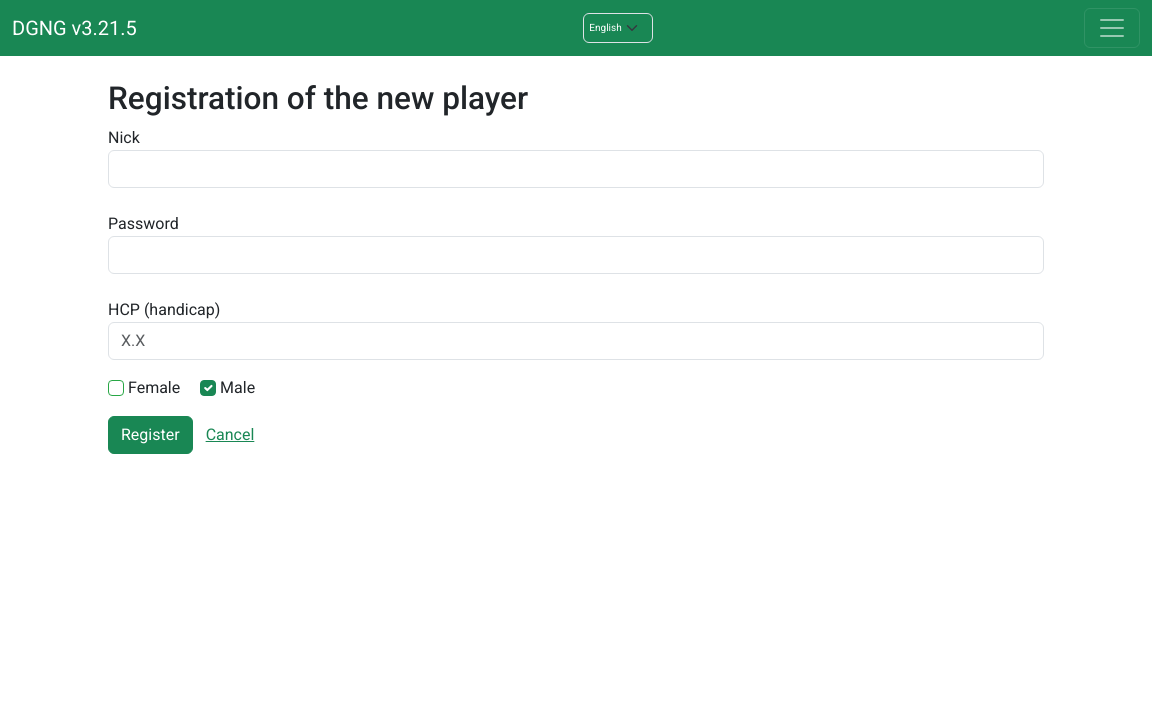
Test: Register Test › Form submission › tries to register without nick
Type "welcome" into the password field named "password" at (576, 255), box [108,236,1044,274]
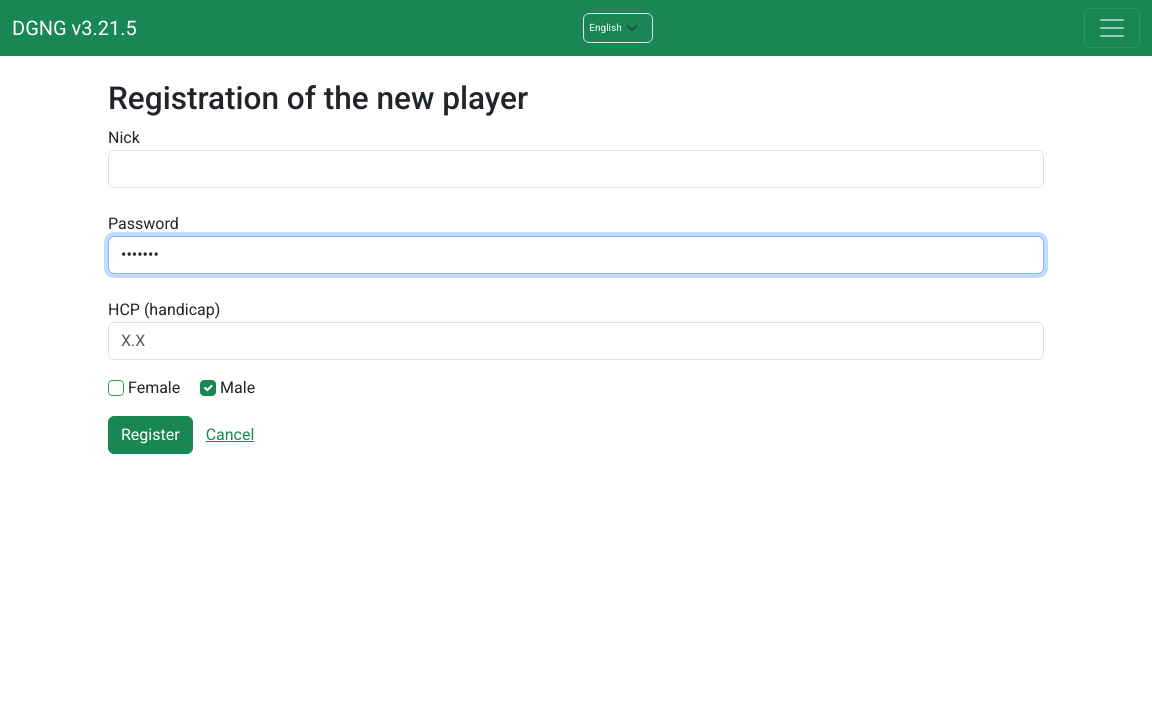
Submit the form, box [108,126,1044,454]
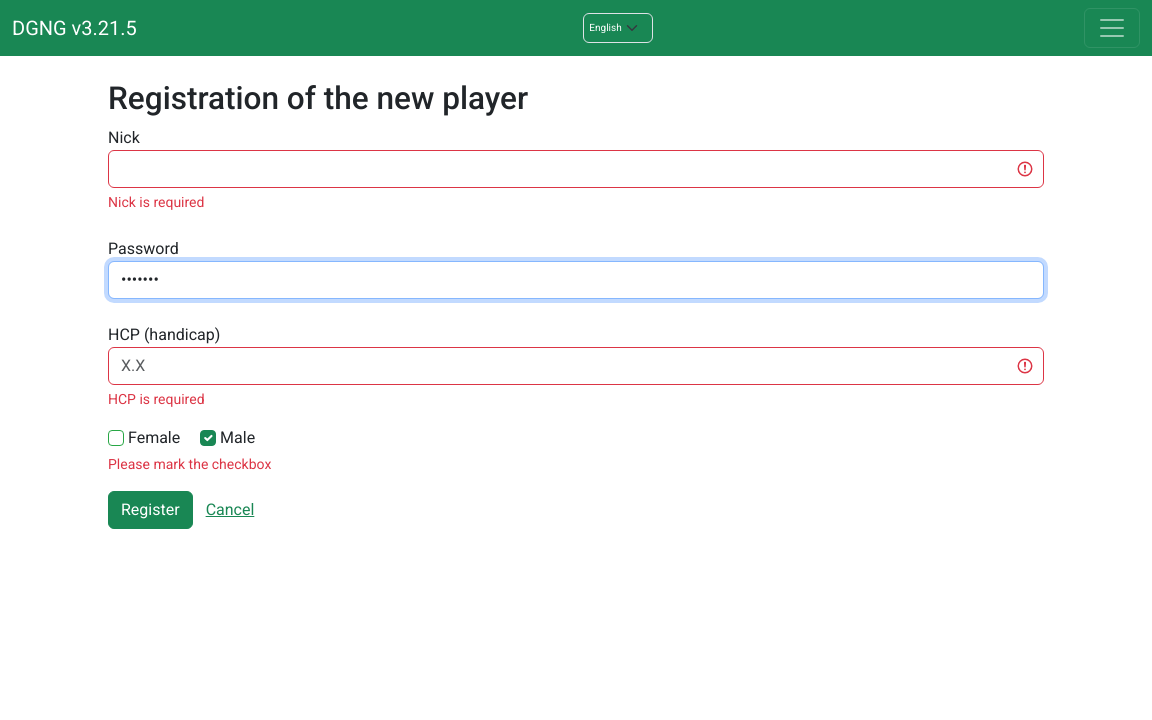
Expected: the text "Nick is required" is shown, [108,194,204,210]
